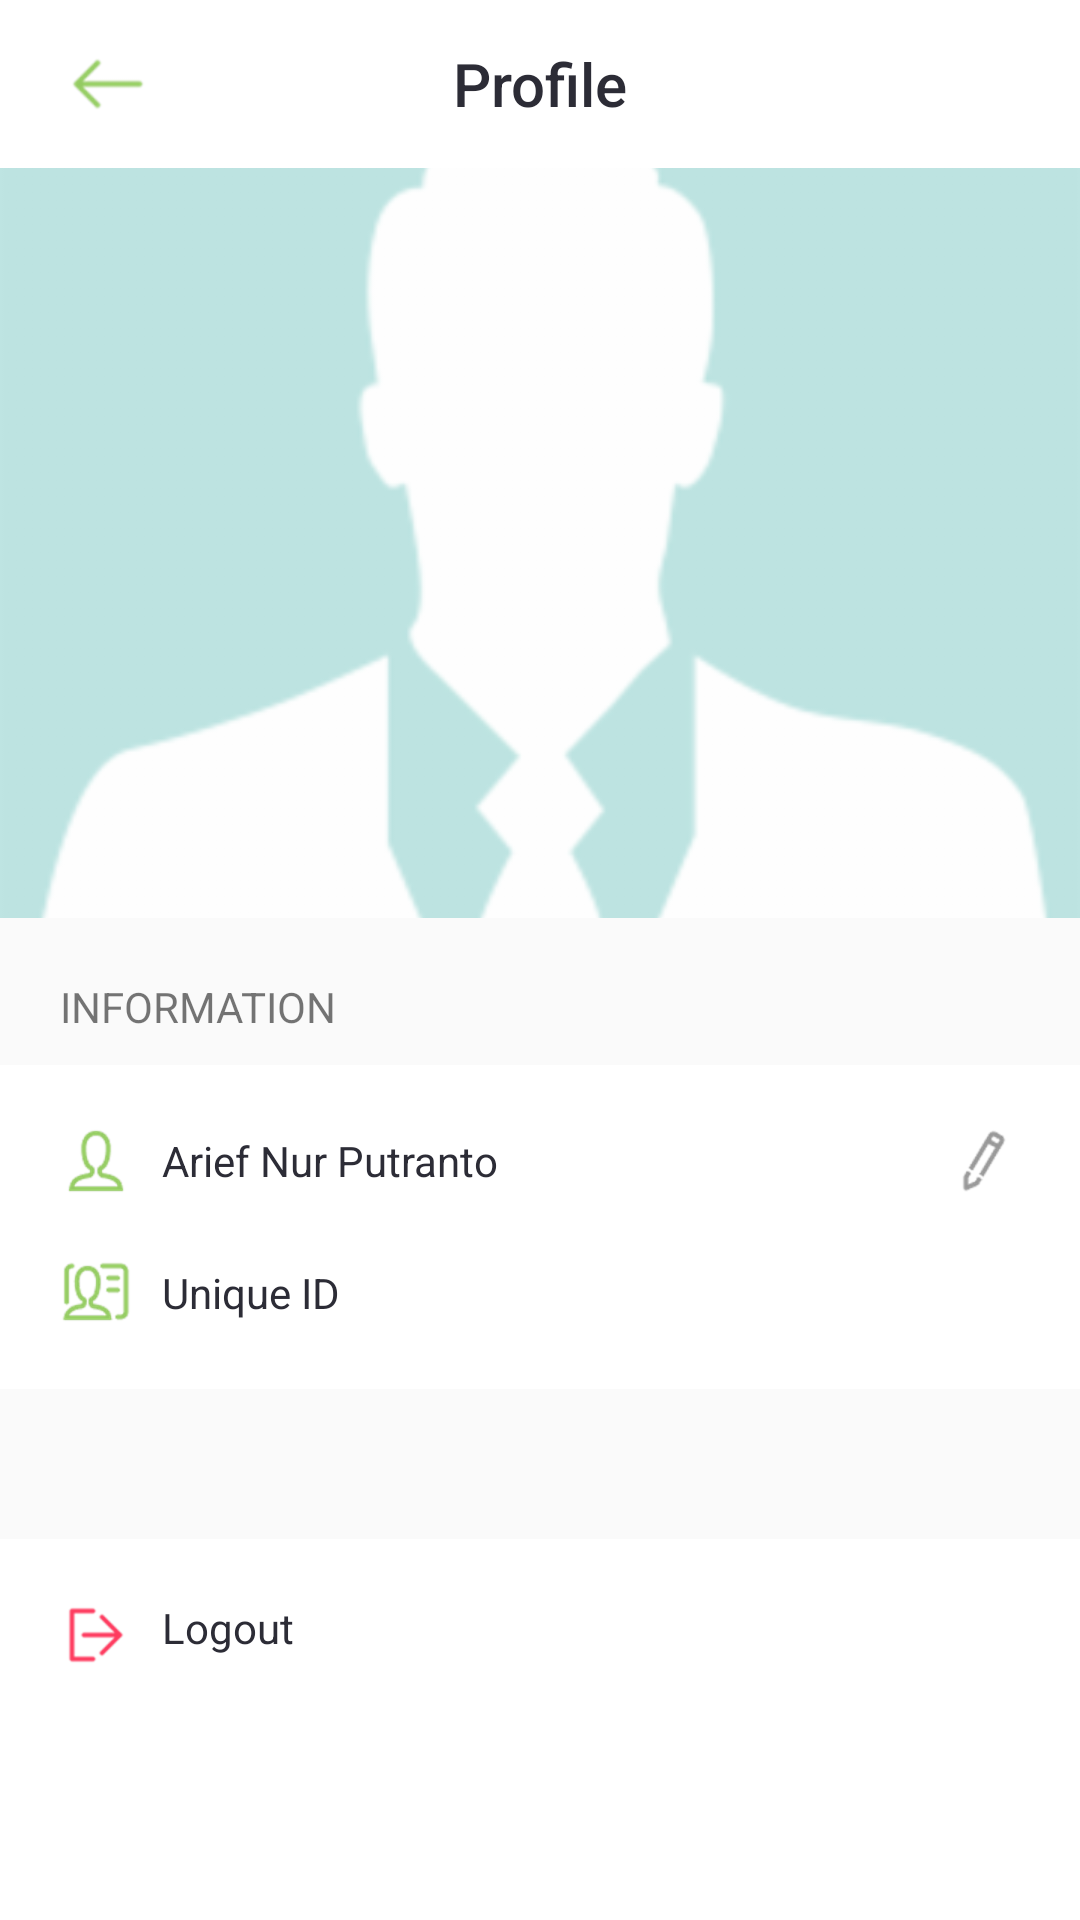

Icon click points for this 1080w x 1920h phone screenshot, format (x=x, y=y):
back: (x=108, y=84)
contact: (x=96, y=1161)
contact id: (x=96, y=1292)
edit: (x=984, y=1161)
